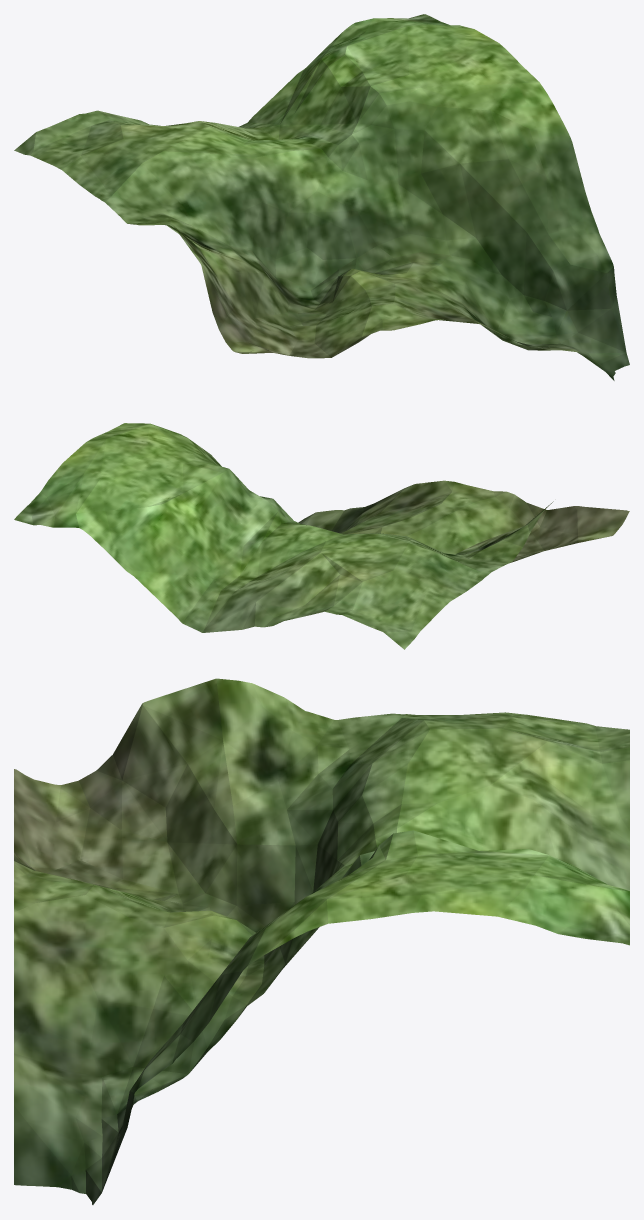
3 renders of one model, top to bottom at view 1: azimuth 30°, elevation 25°; view 2: azimuth 150°, elevation 25°; view 3: azimuth 270°, elevation 25°, orthographic. The views are drawn at different scales.
Size of the model in its own units: 2.95 by 1.58 by 2.95.
Materials: 3 (3 with a texture image).
